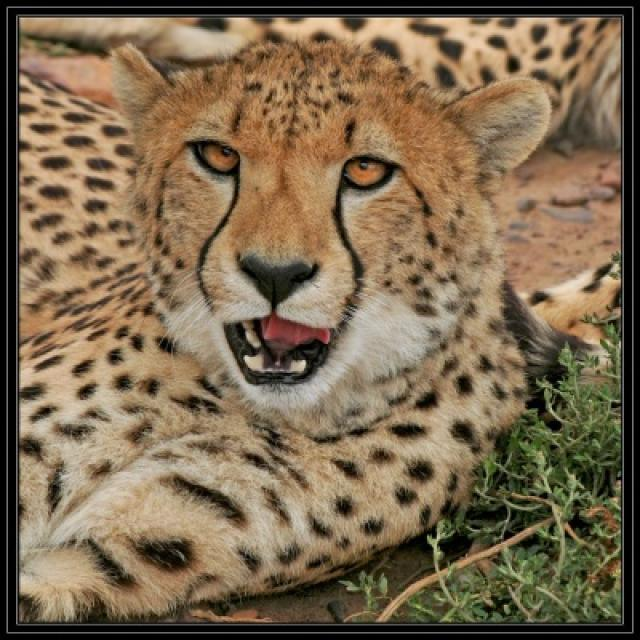Cheetah: (19, 18, 622, 624)
